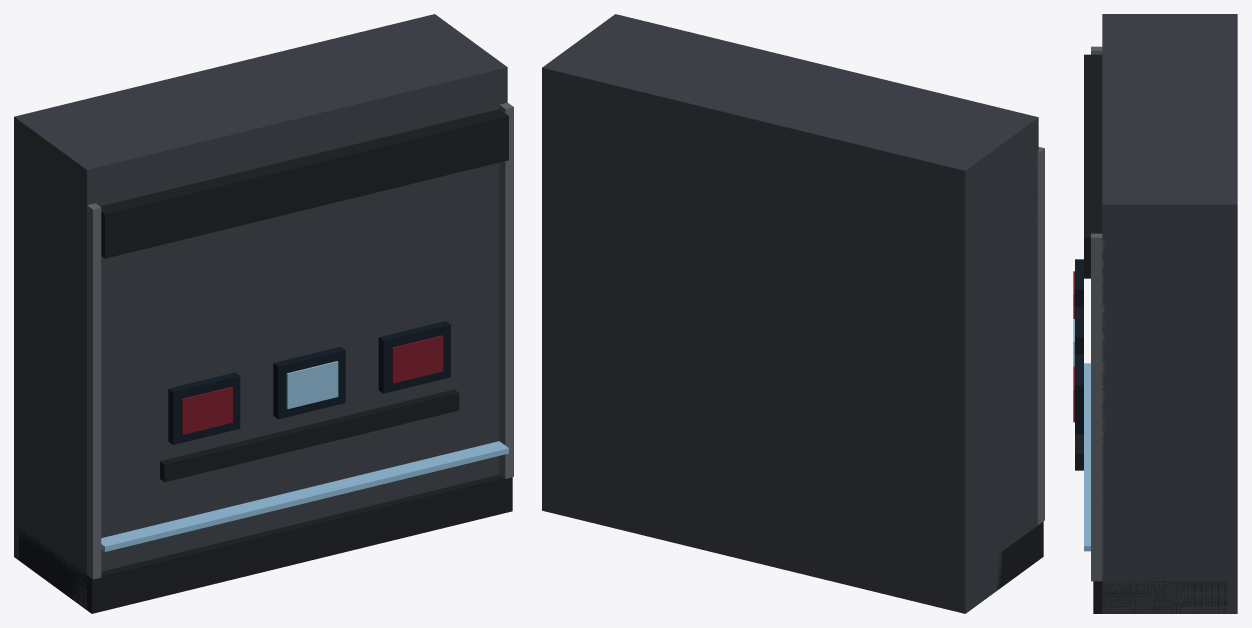
Rendered from imperial_wall_detail.glb.
3 renders of one model, left to right at view 1: azimuth 30°, elevation 25°; view 2: azimuth 150°, elevation 25°; view 3: azimuth 270°, elevation 25°, orthographic. The views are drawn at different scales.
Visible parts, largest first — view 1: imperial_wall_detail; view 2: imperial_wall_detail; view 3: imperial_wall_detail.
Boxes of the visible parts, x1,y1,x2,y2 form: imperial_wall_detail: (14,14,513,613); imperial_wall_detail: (542,14,1044,613); imperial_wall_detail: (1073,14,1237,613).
Size of the model in its own units: 1 by 1 by 0.364.
